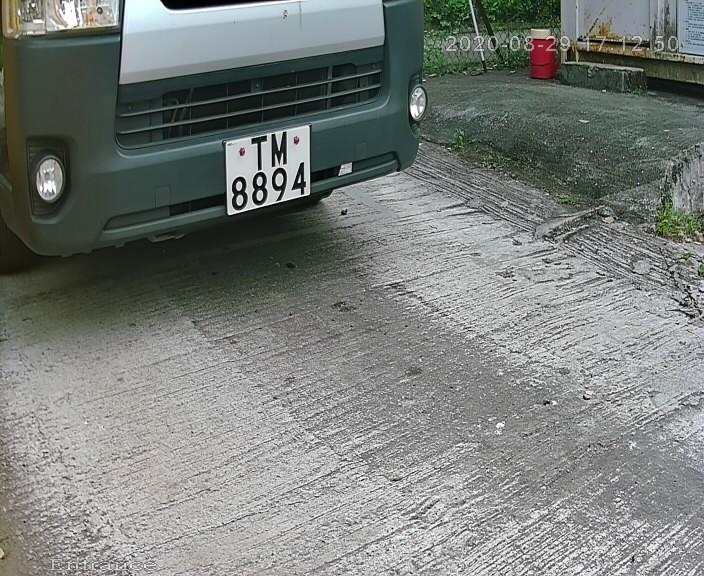License Plate: (217, 119, 321, 222)
